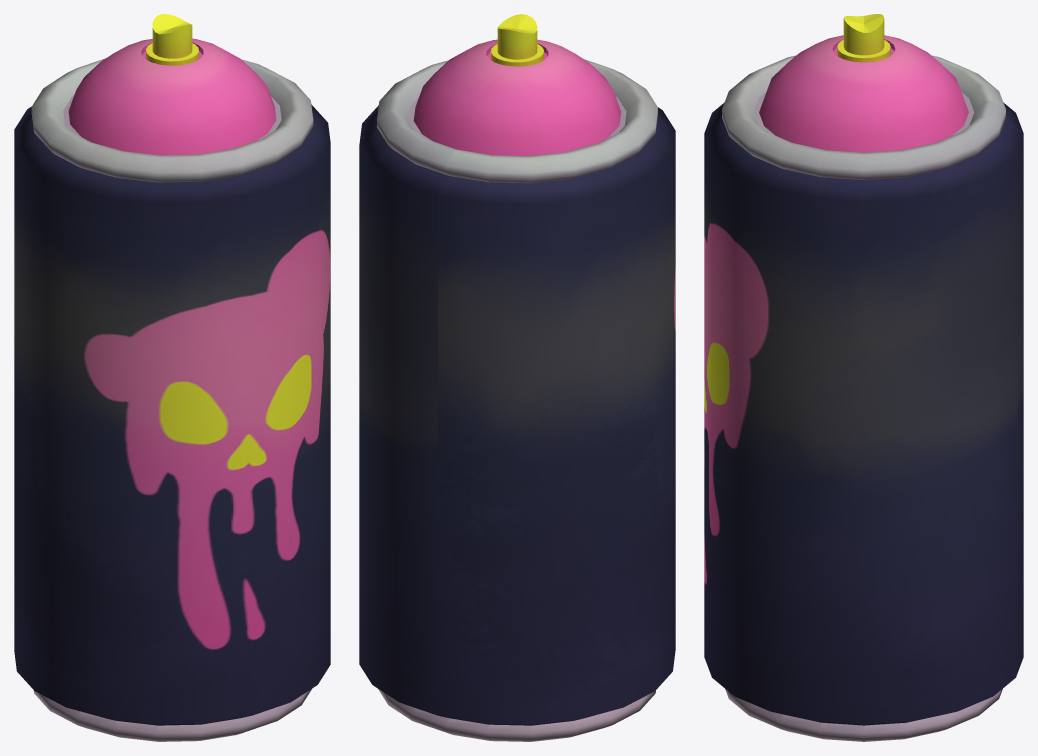
Rendered from obj_spraycch_fbx_v1.fbx.
3 views of the same model, side by side, from view 1: azimuth 30°, elevation 25°; view 2: azimuth 150°, elevation 25°; view 3: azimuth 270°, elevation 25° (orthographic).
Visible parts, largest first — view 1: SprayPaintcan; view 2: SprayPaintcan; view 3: SprayPaintcan.
Part boxes in pixels (x1=…): SprayPaintcan: x1=14, y1=14, x2=330, y2=741; SprayPaintcan: x1=359, y1=14, x2=675, y2=741; SprayPaintcan: x1=704, y1=14, x2=1023, y2=741.
Size of the model in its own units: 1.5 by 3.47 by 1.5.
